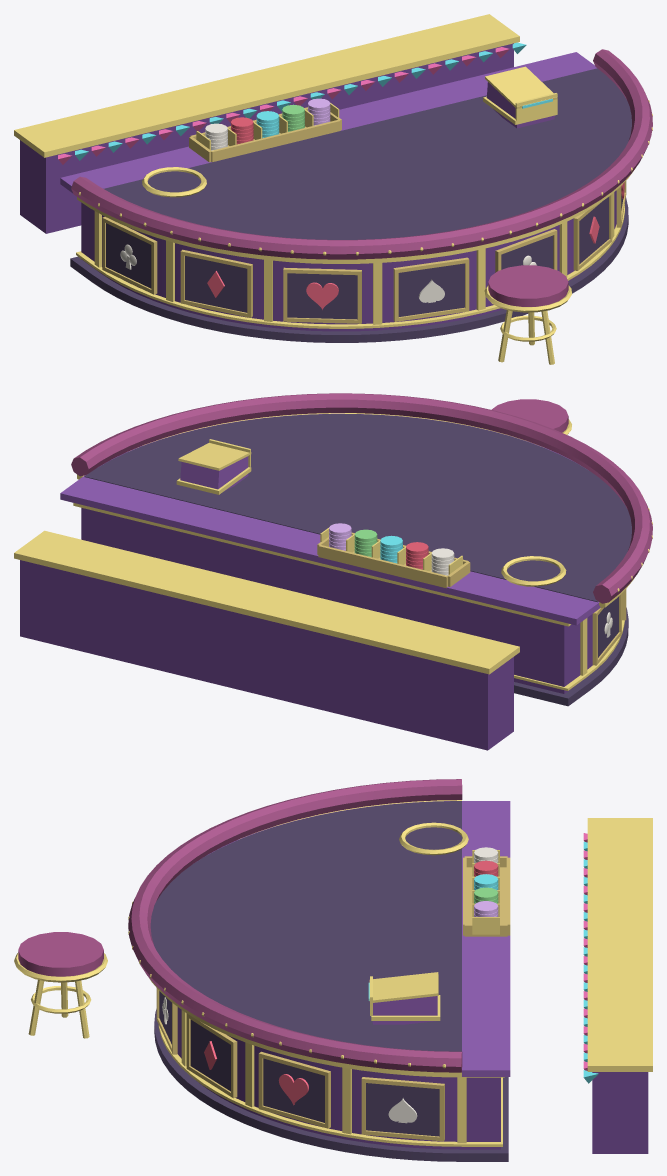
Rendered from blackjack.glb.
3 views of the same model, one above another, from view 1: azimuth 30°, elevation 25°; view 2: azimuth 150°, elevation 25°; view 3: azimuth 270°, elevation 25° (orthographic). The views are drawn at different scales.
Visible parts, largest first — view 1: feltBed, backCap, railLeather, apronPanels, backCounter, cabinet, topSlab, apronFrames, plinth, apronPilasters, stoolSeat, railGold (+16 smaller); view 2: feltBed, backCounter, cabinet, backCap, railLeather, topSlab, girdle, rackTray, shoeGold, plinth, stoolSeat, shoeBody (+9 smaller); view 3: feltBed, backCap, railLeather, topSlab, apronPanels, cabinet, plinth, apronFrames, backCounter, stoolSeat, apronPilasters, shoeGold (+12 smaller).
Part boxes in pixels (x1,y1,x2,y2): feltBed: (103,68,631,239); backCap: (14,14,519,157); railLeather: (71,49,652,259); apronPanels: (106,194,623,319); backCounter: (20,43,513,233); cabinet: (81,190,616,331); topSlab: (60,52,596,193); apronFrames: (102,181,626,323); plinth: (70,197,628,342); apronPilasters: (94,192,614,324); stoolSeat: (488,265,568,306); railGold: (77,100,652,263); feltBed: (84,414,631,602); backCounter: (20,560,513,750); cabinet: (81,508,592,693); backCap: (14,530,519,674); railLeather: (71,393,652,603); topSlab: (60,413,600,625); girdle: (73,503,624,690); rackTray: (317,532,470,588); shoeGold: (176,439,251,494); plinth: (514,607,628,706); stoolSeat: (491,399,568,432); shoeBody: (180,456,248,490); feltBed: (150,801,461,1051); backCap: (587,818,652,1071); railLeather: (128,779,462,1072); topSlab: (208,801,510,1076); apronPanels: (159,991,439,1136); cabinet: (177,1007,500,1149); plinth: (154,1009,508,1161); apronFrames: (156,988,444,1141); backCounter: (592,1072,648,1153); stoolSeat: (18,932,103,976); apronPilasters: (181,1010,466,1143); shoeGold: (369,972,440,1020).
Bounding box in the file's own units: 7.17 × 1.53 × 6.85.
